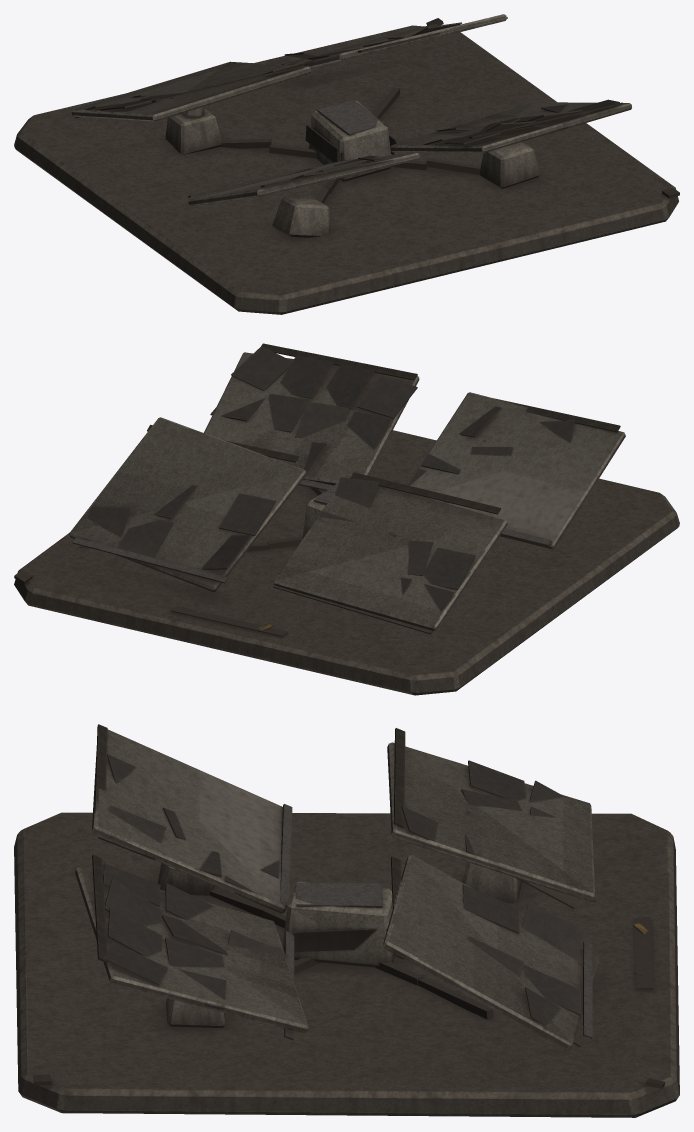
File: ord_solar_wreck.fbx
3 renders of one model, top to bottom at view 1: azimuth 30°, elevation 25°; view 2: azimuth 150°, elevation 25°; view 3: azimuth 270°, elevation 25°, orthographic. The views are drawn at different scales.
Parts seen in each view (by area): view 1: base_bar; view 2: base_bar; view 3: base_bar.
Boxes of the visible parts, x1,y1,x2,y2 form: base_bar: (14,14,679,314); base_bar: (14,343,679,695); base_bar: (14,724,679,1117).
Size of the model in its own units: 1570 by 570 by 1559.
Materials: 2 (2 with a texture image).
